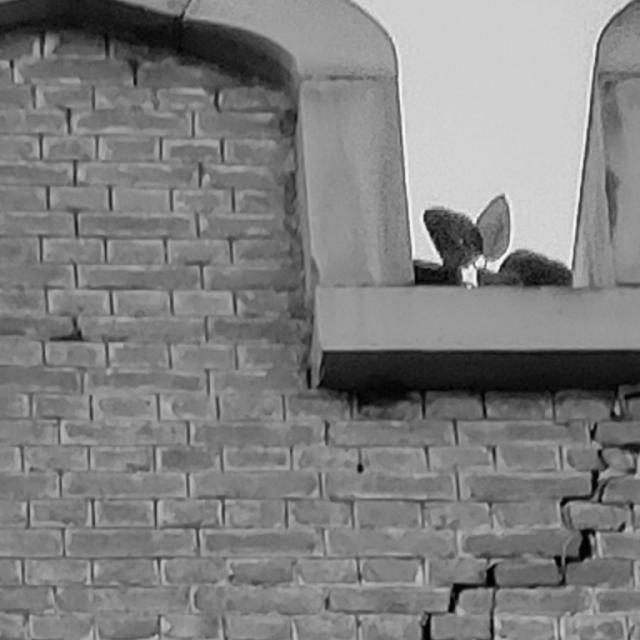crack: (420, 388, 640, 638)
